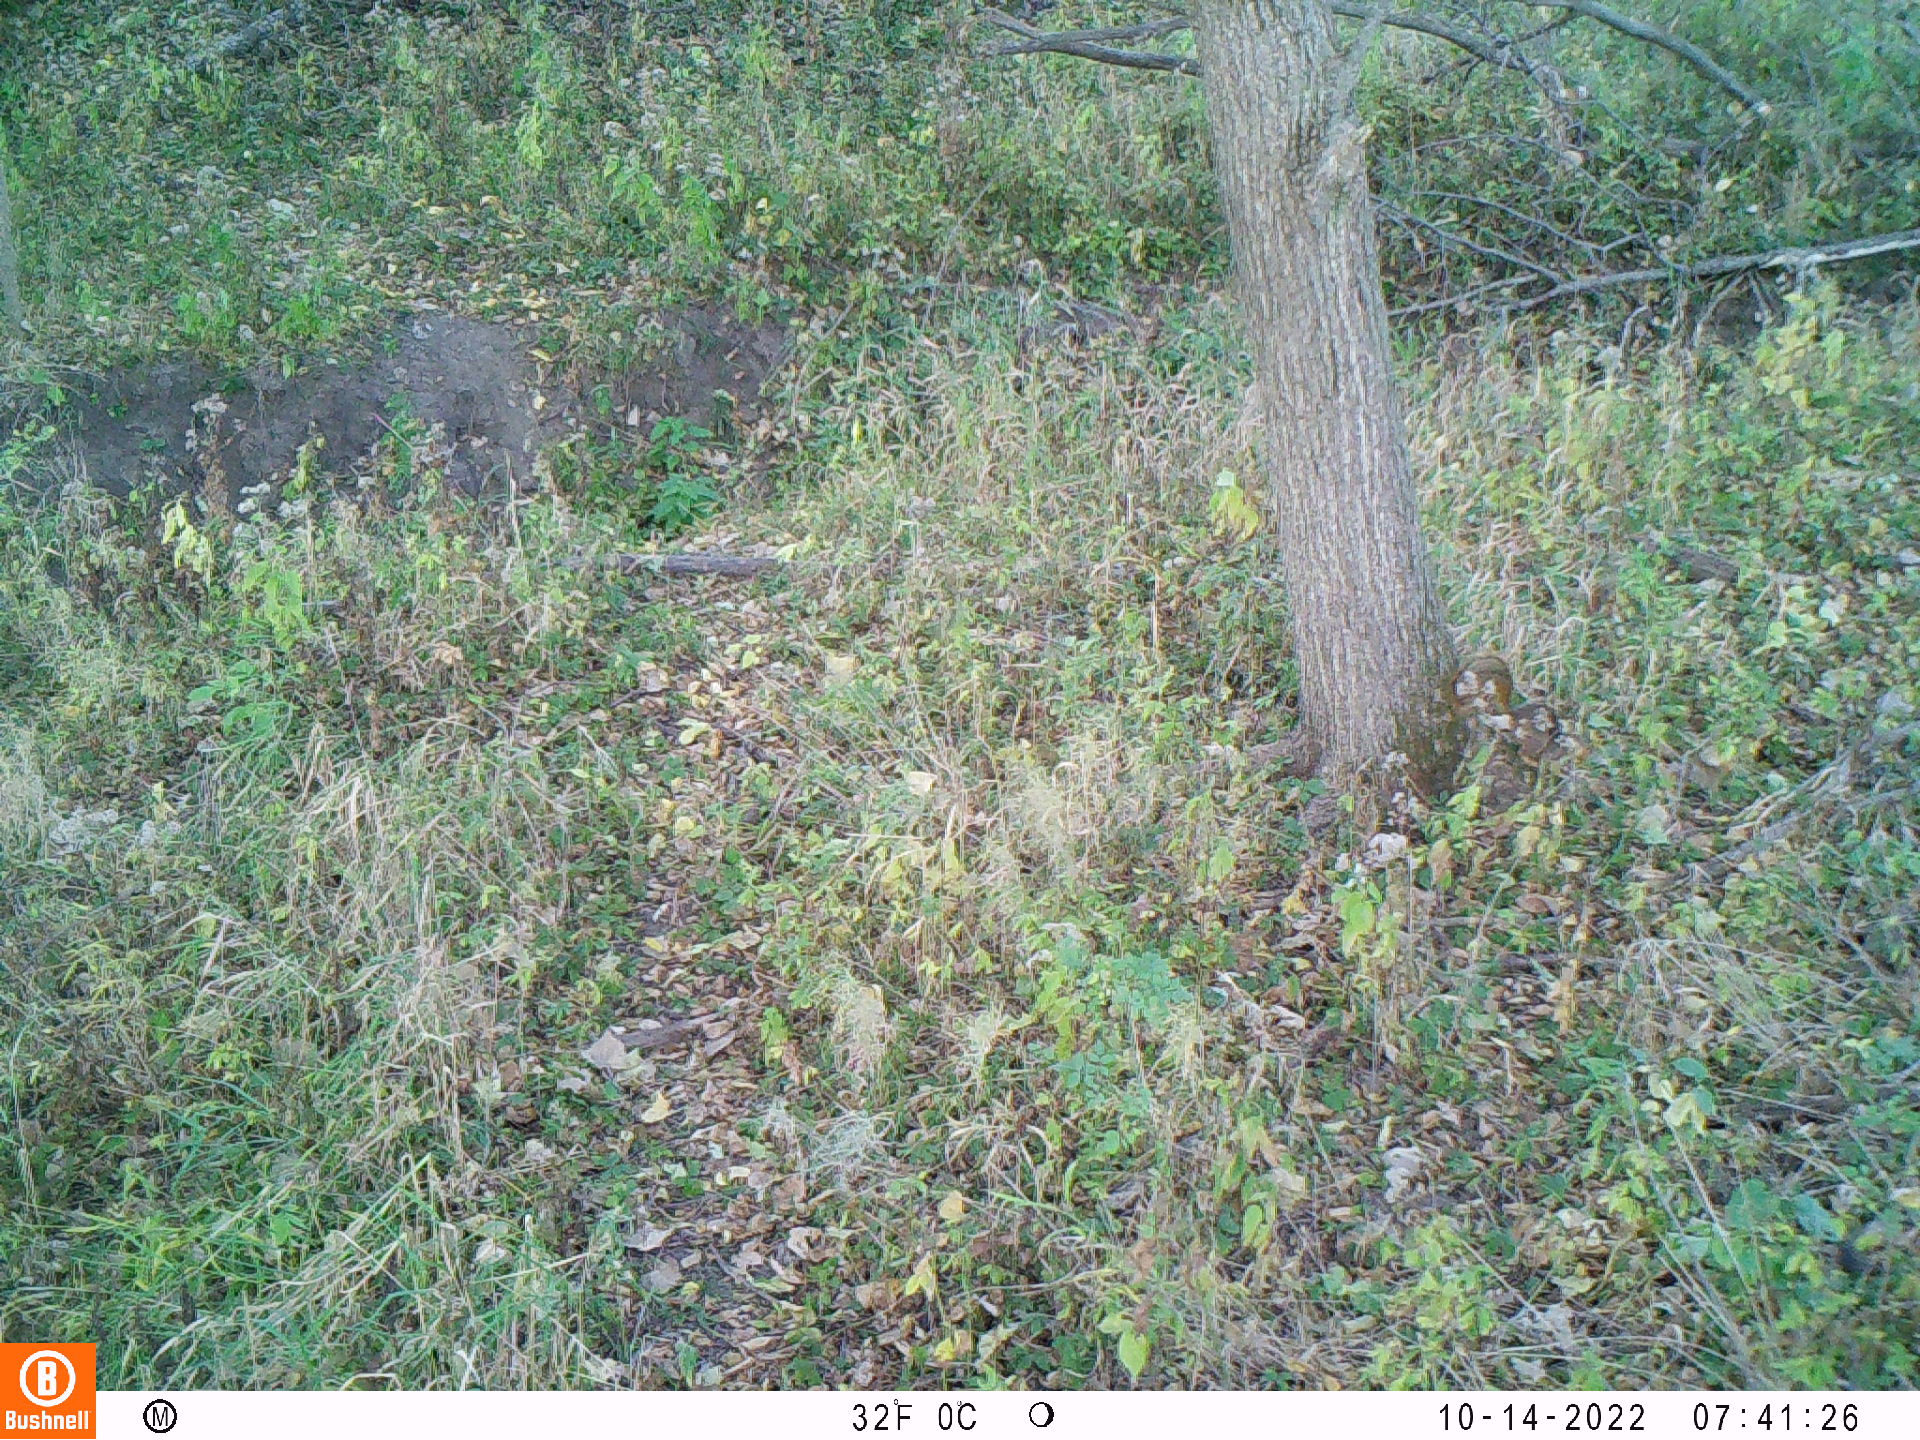Squirrel: (1448, 649, 1562, 765)
